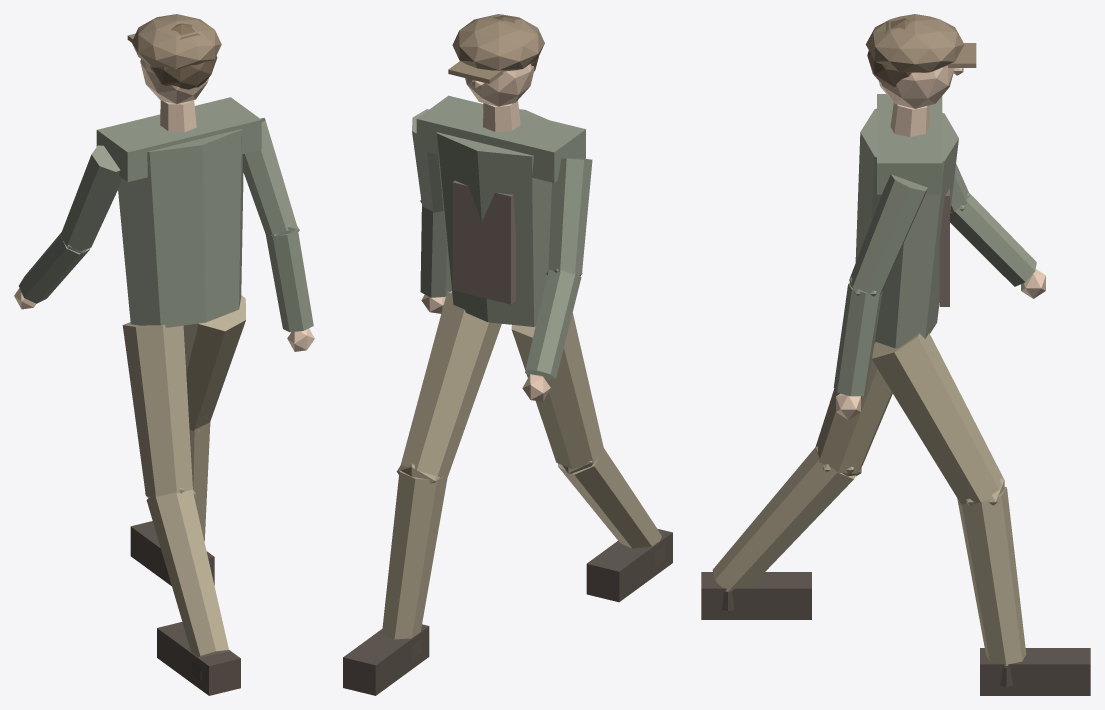
File: townsman_walking.glb
The picture shows the model from 3 angles, left to right: view 1: azimuth 30°, elevation 25°; view 2: azimuth 150°, elevation 25°; view 3: azimuth 270°, elevation 25°; orthographic projection. The views are drawn at different scales.
Visible parts, largest first — view 1: tweed_green, moleskin, boot, tweed_brown, skin, hair; view 2: tweed_green, moleskin, boot, waistcoat, tweed_brown, skin; view 3: moleskin, tweed_green, boot, tweed_brown, skin, waistcoat, hair.
Boxes of the visible parts, box(x1,y1,x2,y2) form: tweed_green: box(19, 97, 313, 332); moleskin: box(122, 295, 245, 657); boot: box(130, 521, 240, 695); tweed_brown: box(127, 14, 221, 69); skin: box(14, 59, 314, 351); hair: box(149, 23, 217, 89); tweed_green: box(412, 95, 592, 380); moleskin: box(382, 291, 661, 639); boot: box(343, 528, 672, 695); waistcoat: box(452, 180, 515, 304); tweed_brown: box(448, 14, 544, 83); skin: box(421, 63, 550, 401); moleskin: box(712, 333, 1026, 666); tweed_green: box(833, 94, 1036, 396); boot: box(701, 572, 1090, 695); tweed_brown: box(865, 14, 976, 72); skin: box(836, 65, 1045, 419); waistcoat: box(939, 188, 949, 306); hair: box(867, 18, 911, 87).
Bounding box in the file's own units: 0.6266 × 1.73 × 0.9508.
